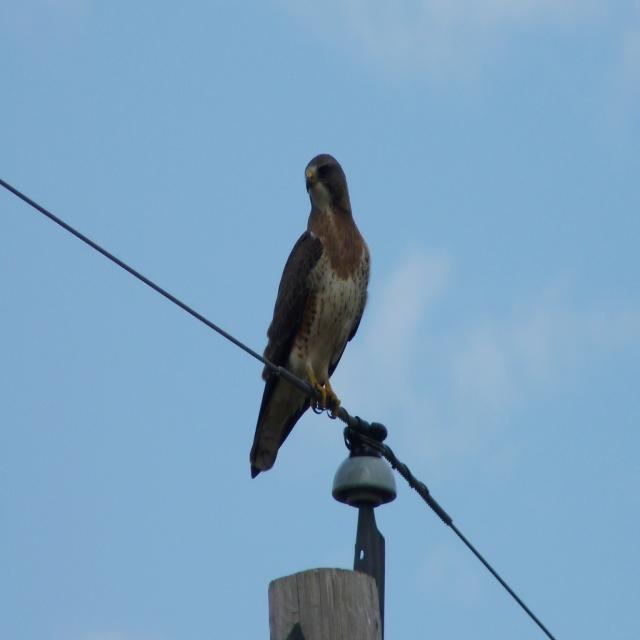bird: (239, 142, 377, 482)
